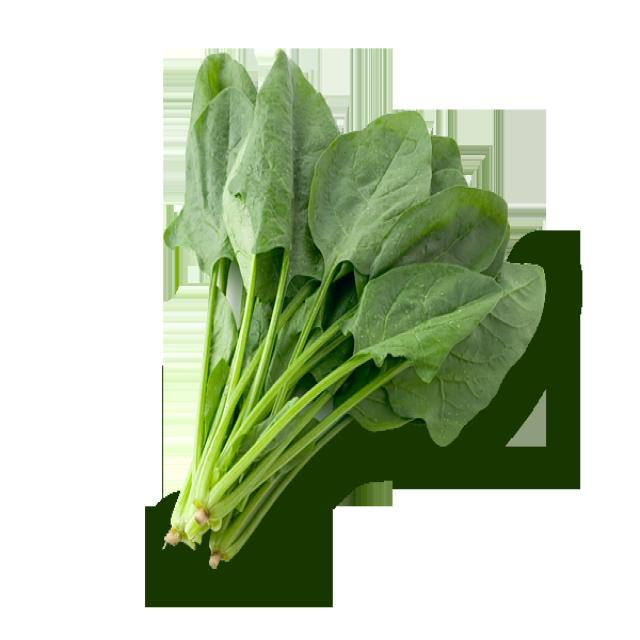Wet Waste: (130, 36, 557, 580)
